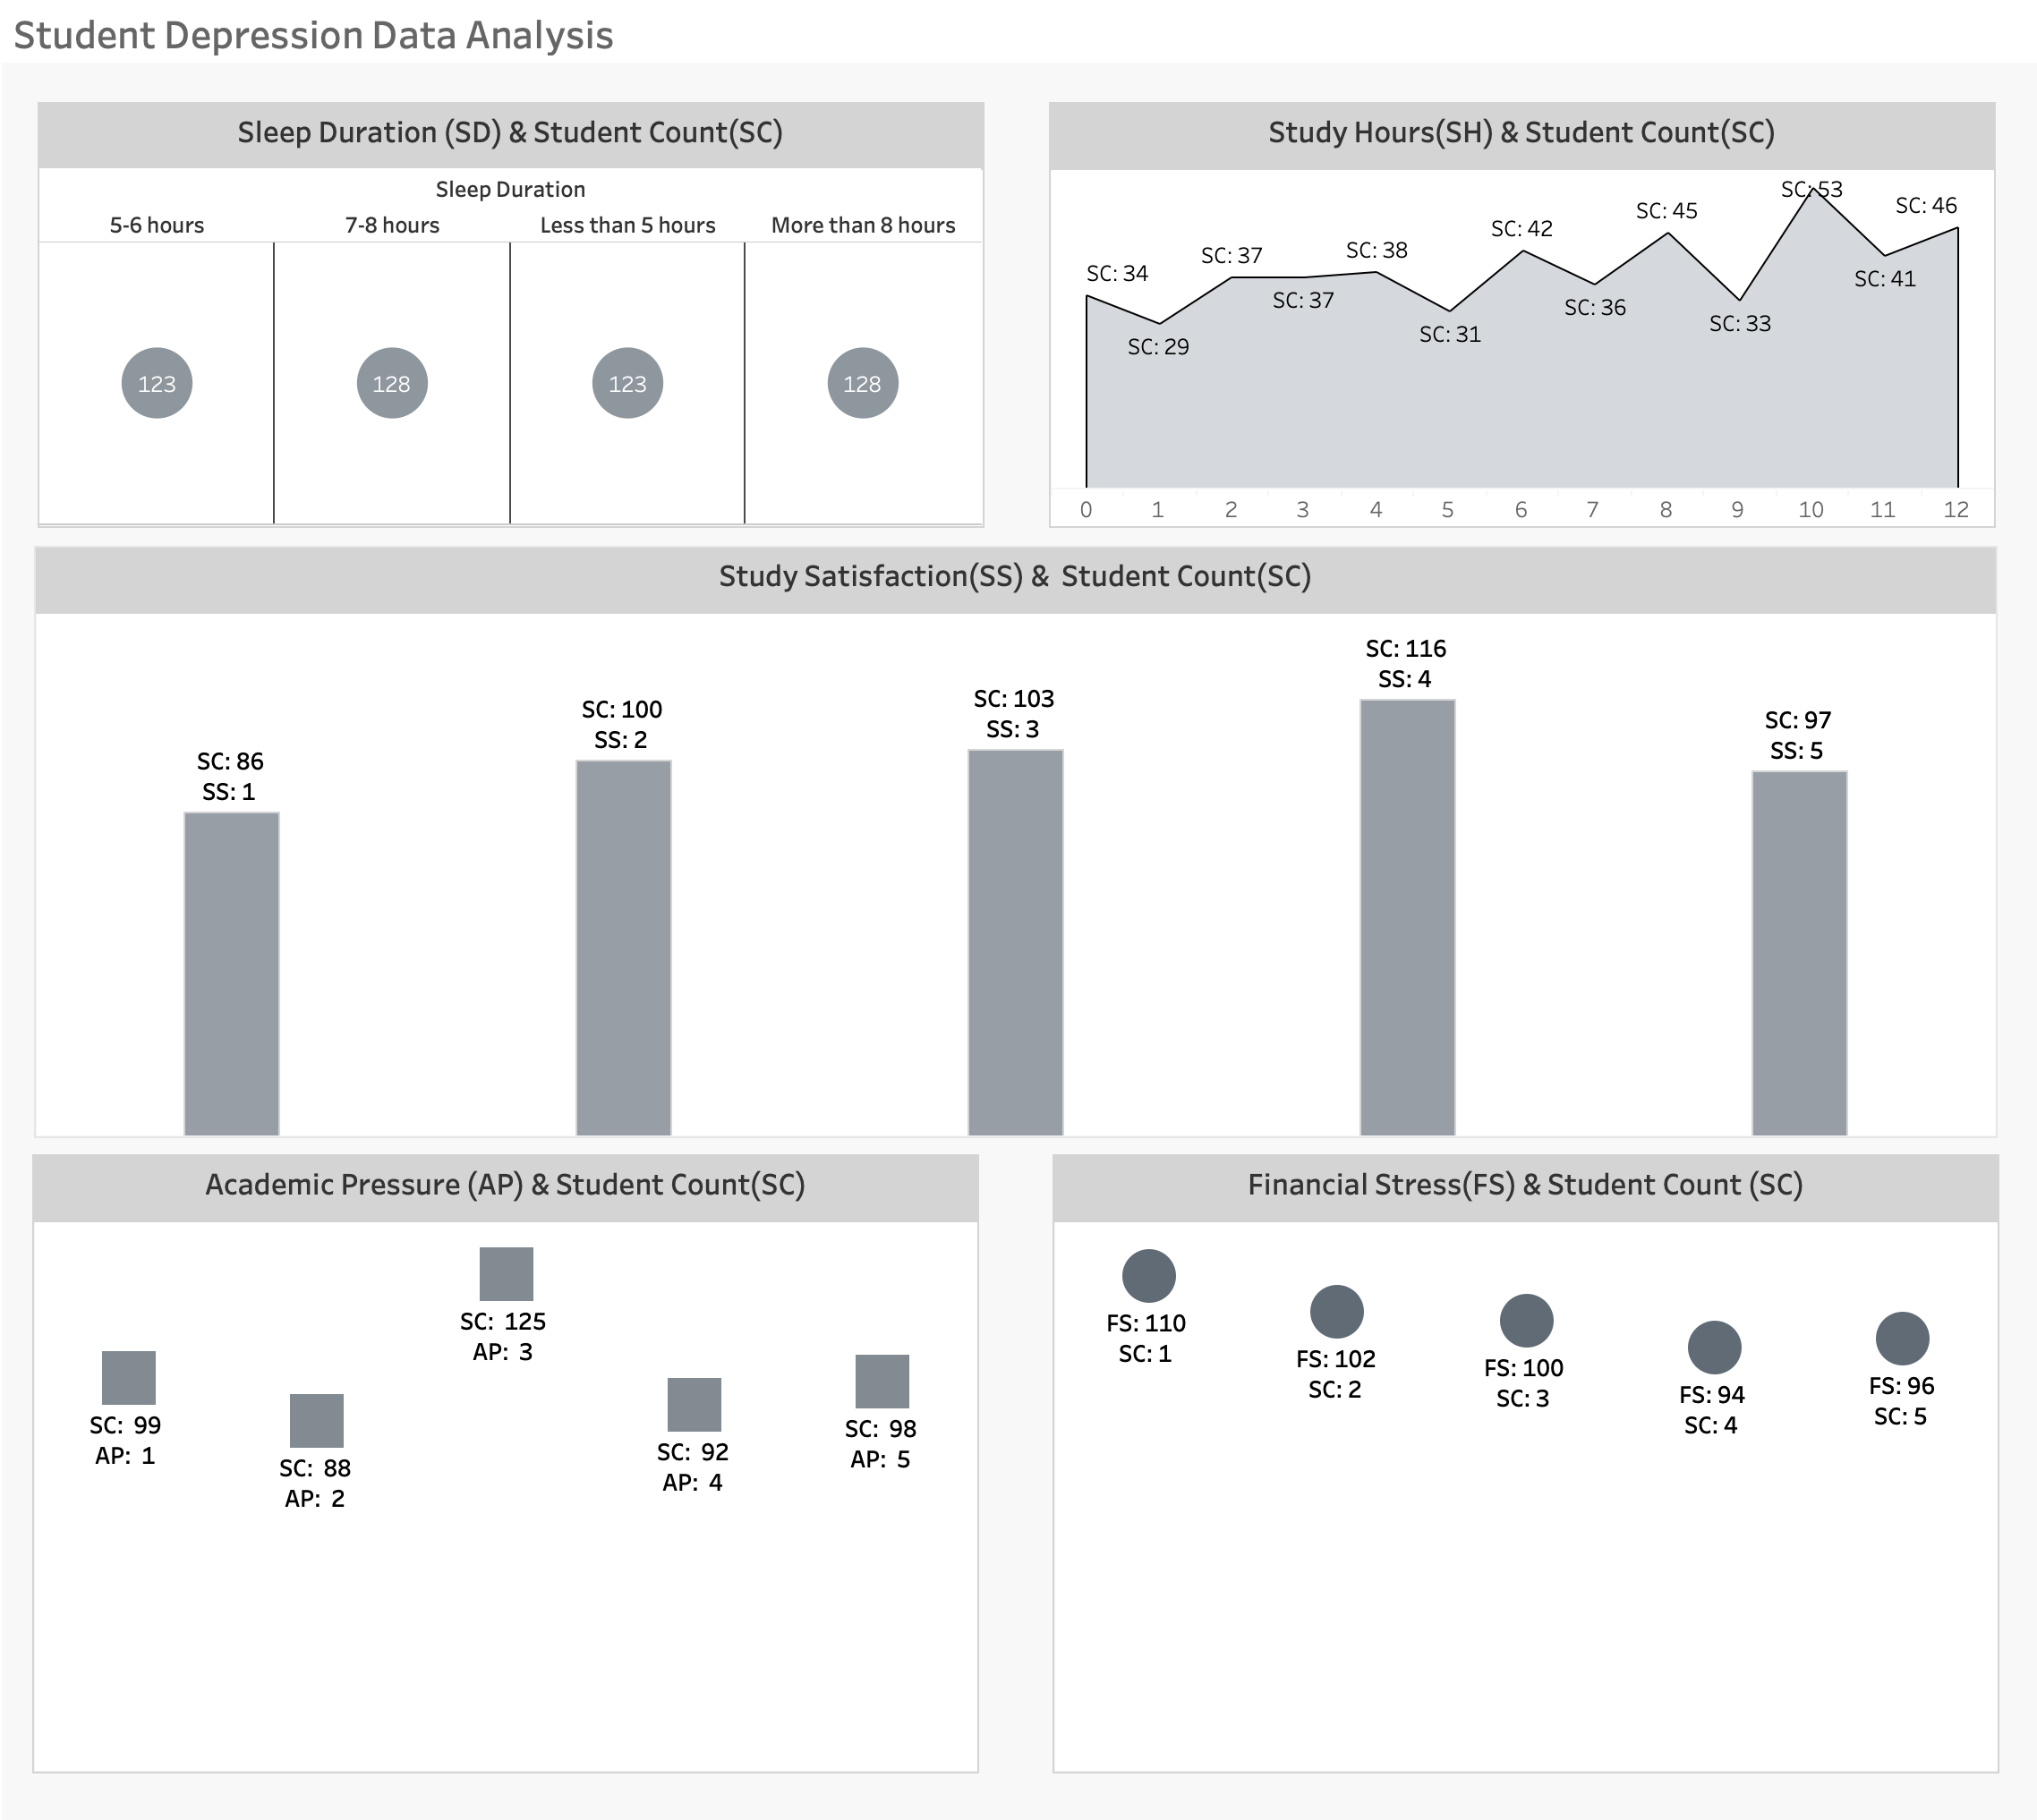

Layout of this report page (visuals, bound fields, positions):
{"tool":"tableau","page":{"name":"Dashboard 1","canvas":[1000,1000],"units":"permille","ordinal":0},"visuals":[{"type":"title","box":[5,7.7,989.9,30.8]},{"type":"worksheet","title":"SD & SC","mark":"Pie","cols":["Sleep Duration"],"box":[17.6,59.7,332.9,229.3]},{"type":"worksheet","title":"SH & SC","mark":"Area","rows":["INDEX_Column"],"cols":["Study Hours"],"box":[373.2,59.7,332.9,229.3]},{"type":"worksheet","title":"SS & SC","mark":"Bar","rows":["INDEX_Column"],"cols":["Study Satisfaction"],"box":[16.4,298.7,690.4,318.9]},{"type":"worksheet","title":"Academic Pressure and student count","mark":"Square","rows":["INDEX_Column"],"cols":["Academic Pressure"],"box":[15.7,626.2,332.9,333.3]},{"type":"worksheet","title":"FS & SC","mark":"Circle","rows":["INDEX_Column"],"cols":["Financial Stress"],"box":[374.4,626.2,332.9,333.3]}]}

Visuals, with their boxes on the dashboard's canvas, which has no fixed pixel size, in thousandths of its width and height (x1, y1, x2, y2). These are canvas units, not pixel positions in the 2037x1820 screenshot, which may show the page scaled, cropped or inside an application window:
title: x1=5 y1=8 x2=995 y2=38
"SD & SC" worksheet (Pie marks): x1=18 y1=60 x2=350 y2=289
"SH & SC" worksheet (Area marks): x1=373 y1=60 x2=706 y2=289
"SS & SC" worksheet (Bar marks): x1=16 y1=299 x2=707 y2=618
"Academic Pressure and student count" worksheet (Square marks): x1=16 y1=626 x2=349 y2=960
"FS & SC" worksheet (Circle marks): x1=374 y1=626 x2=707 y2=960
